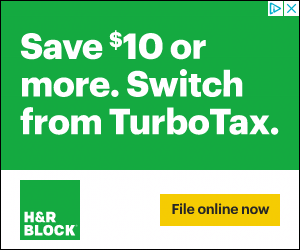fake_button: (157, 189, 283, 234)
